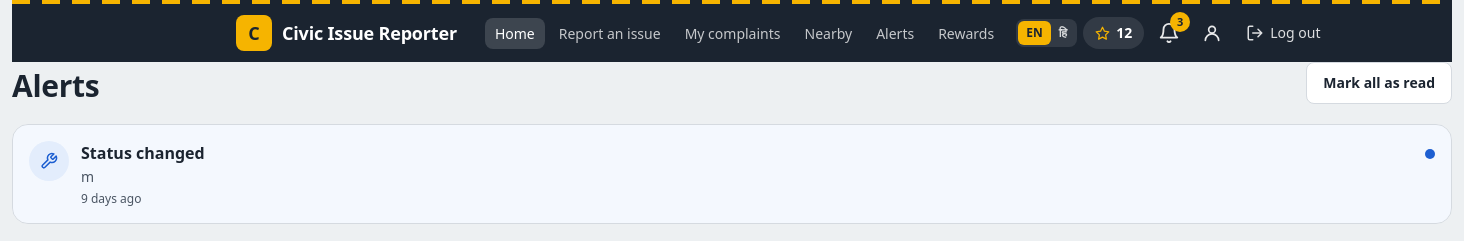
Test case: top bar bell › clears its unread count right after 'Mark all as read' (no page change needed)
This screenshot has width=1464, height=241.
Expected: the text with test id "unread-count" reads "3", [1177,14,1183,29]
Click the button "Mark all as read".
click(1379, 83)  # box [1306,62,1452,104]
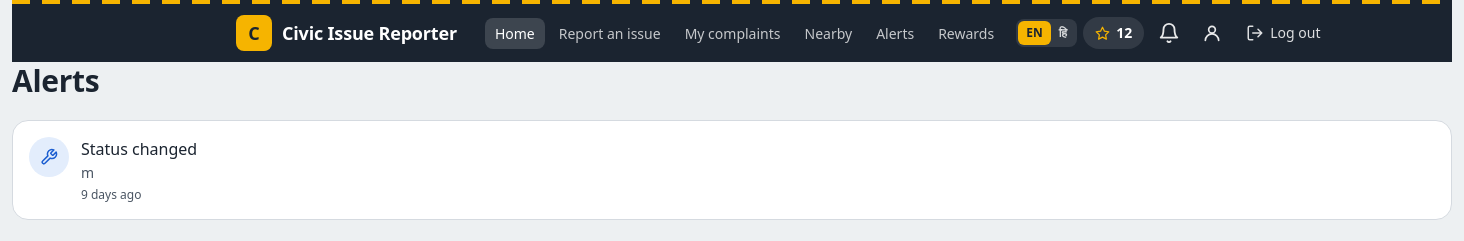
Now the text with test id "unread-count" is gone
